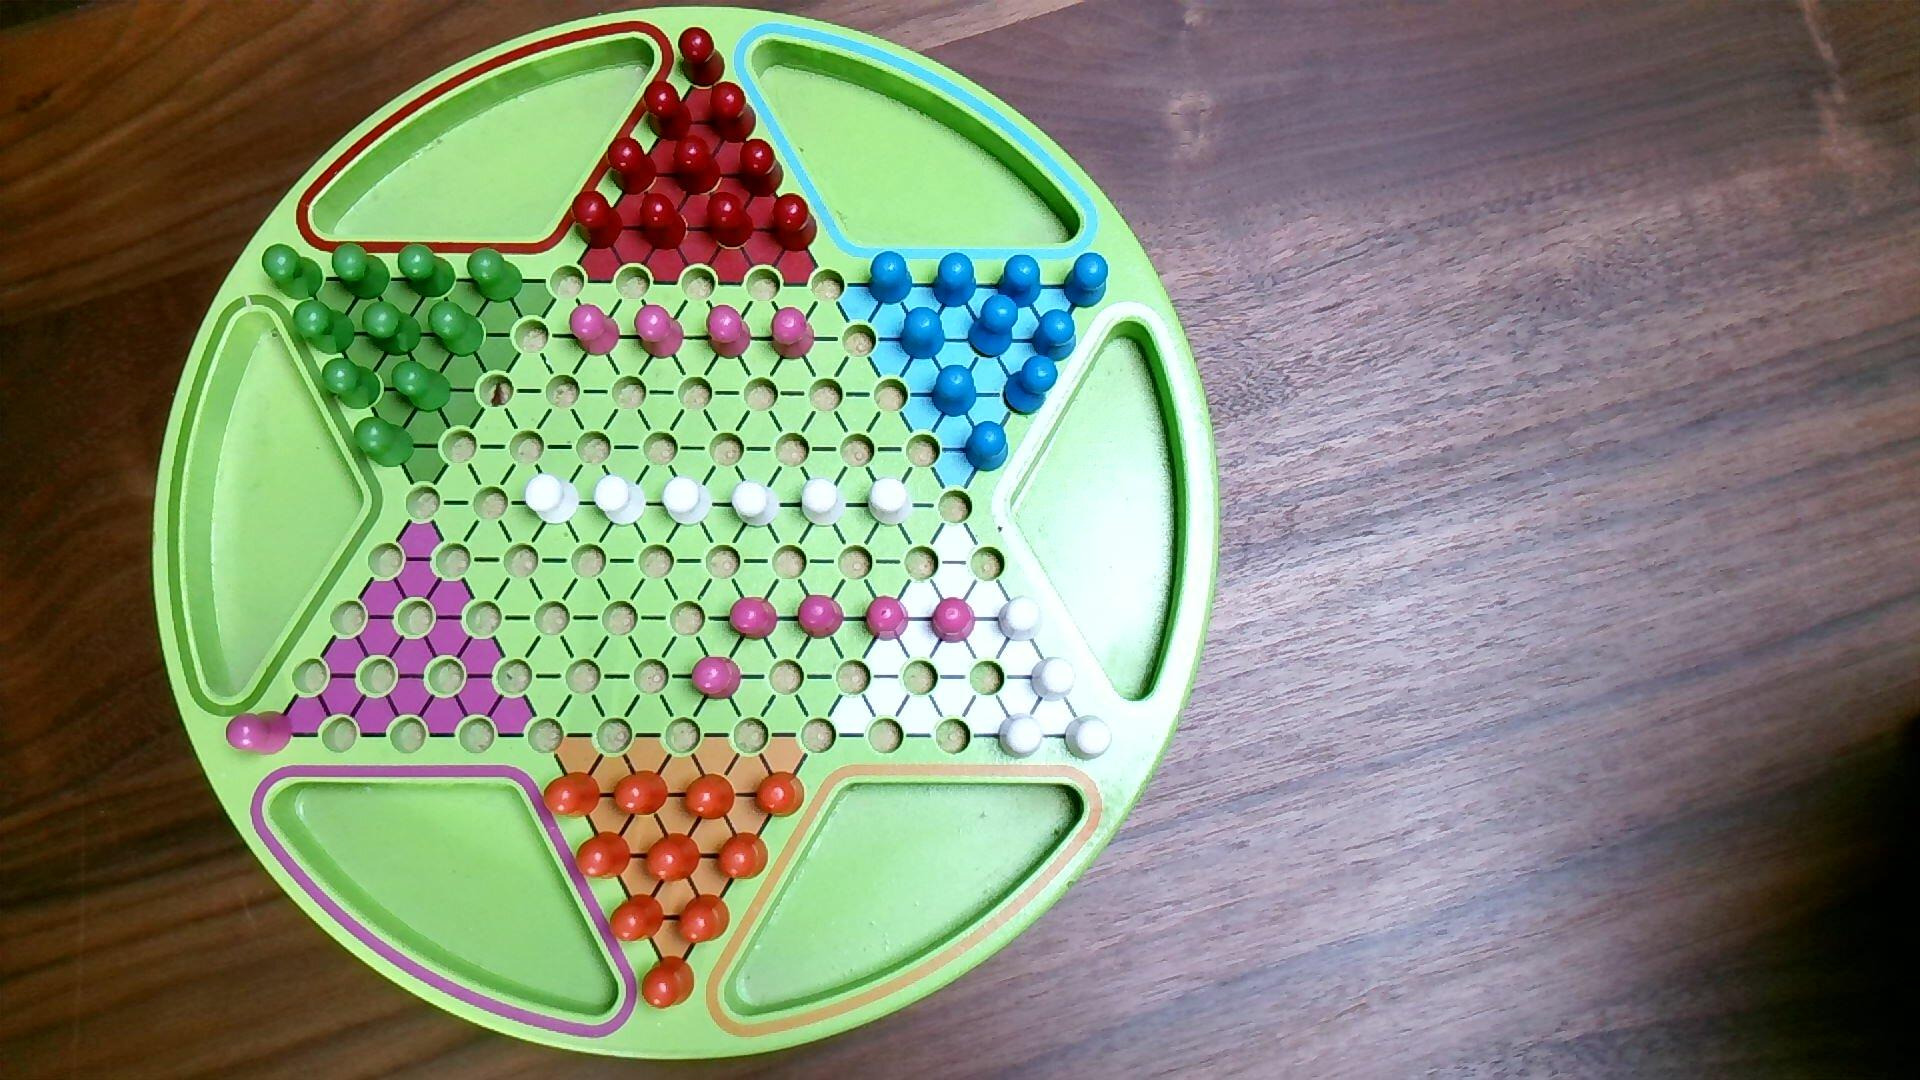B: (1004, 353, 1062, 418), (967, 291, 1021, 357), (1062, 251, 1112, 310), (898, 305, 948, 363), (930, 252, 978, 310), (930, 363, 978, 419), (1030, 309, 1079, 364), (996, 255, 1044, 310), (866, 251, 914, 307), (964, 419, 1011, 475)
G: (261, 243, 326, 303), (291, 298, 357, 357), (331, 241, 393, 302), (360, 299, 425, 357), (427, 299, 487, 359), (465, 247, 526, 305), (397, 243, 458, 301), (392, 359, 454, 414), (353, 415, 417, 469), (320, 357, 382, 411)
O: (641, 955, 698, 1011), (644, 832, 704, 885), (608, 893, 667, 945), (574, 829, 633, 882), (541, 771, 603, 820), (676, 893, 732, 945), (716, 832, 771, 884), (613, 770, 671, 818), (683, 773, 737, 823), (756, 771, 807, 820)
R: (571, 189, 626, 252), (708, 80, 760, 145), (644, 78, 695, 142), (607, 135, 659, 196), (671, 135, 724, 196), (676, 26, 728, 88), (638, 190, 688, 252), (770, 193, 819, 255), (737, 137, 786, 199), (705, 190, 756, 249)
R2: (225, 709, 294, 758), (633, 303, 686, 363), (568, 302, 622, 357), (705, 303, 754, 363), (767, 306, 818, 363), (691, 654, 744, 702), (727, 596, 779, 642), (796, 593, 847, 641), (864, 593, 911, 644), (930, 595, 977, 645)
W: (592, 473, 649, 529), (524, 473, 582, 527), (661, 475, 713, 527), (1063, 713, 1116, 764), (866, 476, 916, 529), (800, 476, 848, 530), (731, 479, 782, 527), (1029, 655, 1077, 704), (997, 595, 1046, 644), (997, 712, 1046, 760)
